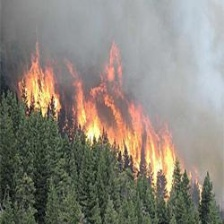fire: (15, 35, 191, 201)
smoke: (73, 6, 222, 88)
